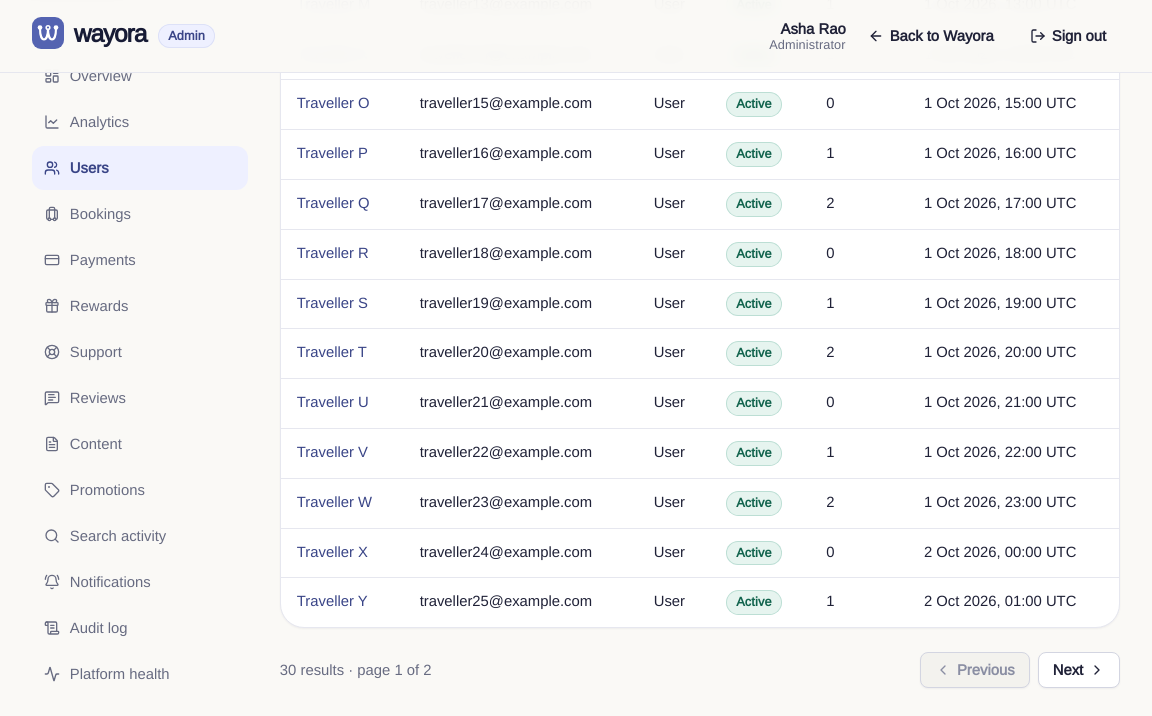
Test: admin pages › users: filters live in the URL, pages load on demand, and rows open the detail view
(page scrolled)
Expected: the text "30 results · page 1 of 2" is shown, [280,659,432,681]
Click the button "Next": (1079, 670) [1038,652,1120,688]
(page scrolled)
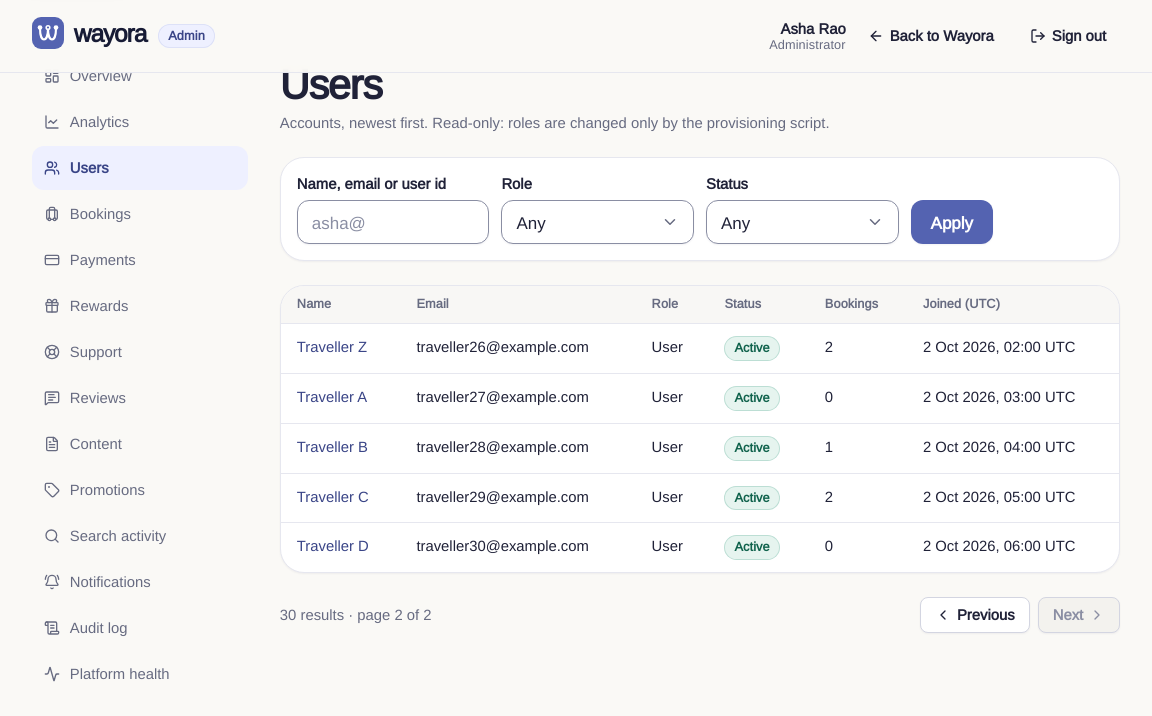
Expected: the number of rows is 6, [281,286,1119,324]; [281,324,1119,374]; [281,374,1119,423]; [281,423,1119,473]; [281,473,1119,523]; [281,523,1119,572]
In the search field labelled "Name, email or user id": (393, 222) [312,201,474,243], type "traveller7@"
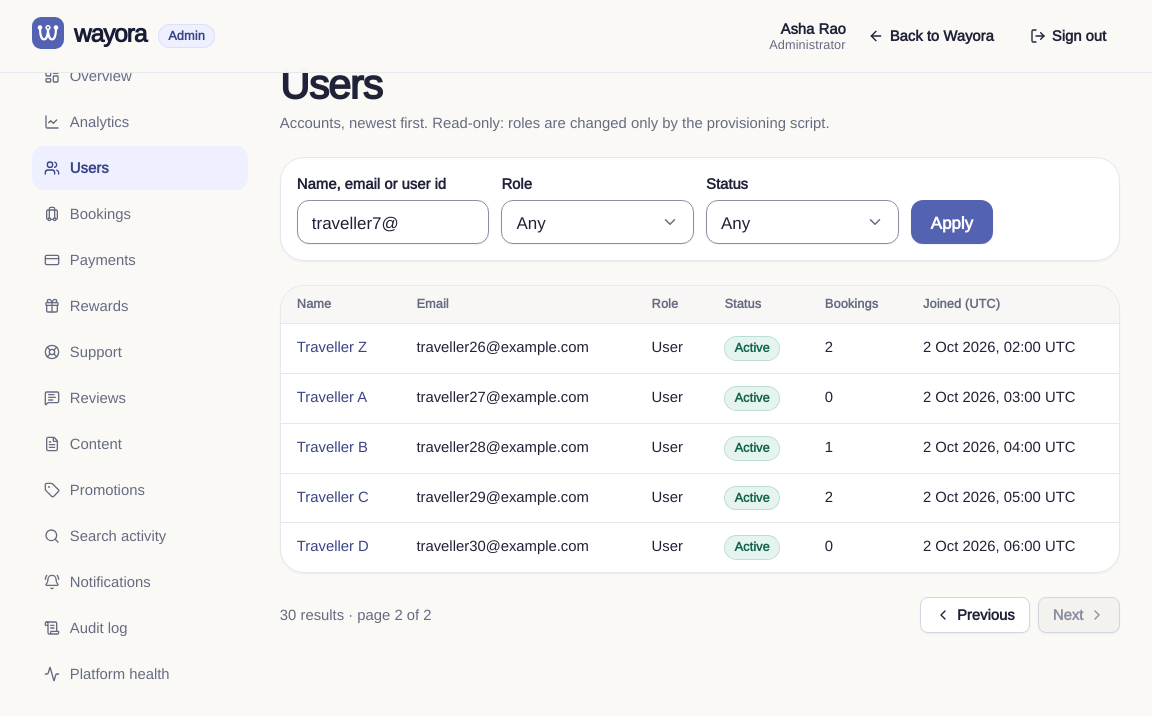
Click the button "Apply": (952, 222) [911,200,993,244]
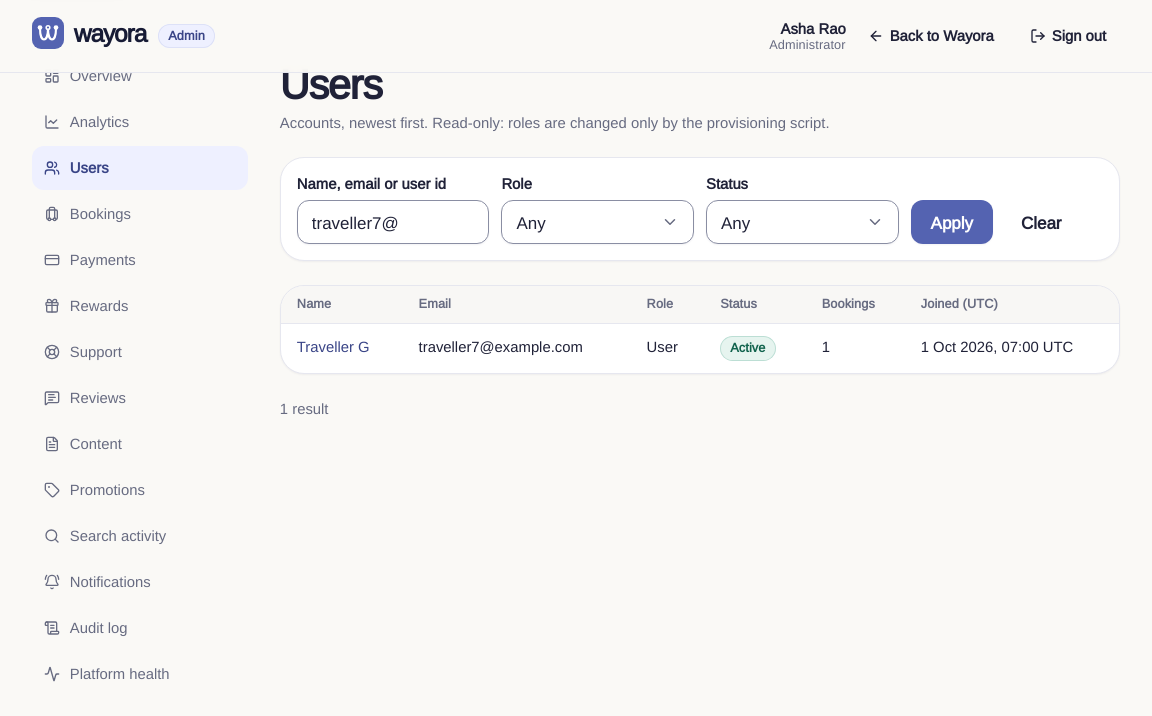
Expected: the number of rows is 2, [281,286,1119,324]; [281,324,1119,373]
Click the link "Traveller G": (333, 346) [297,337,370,355]
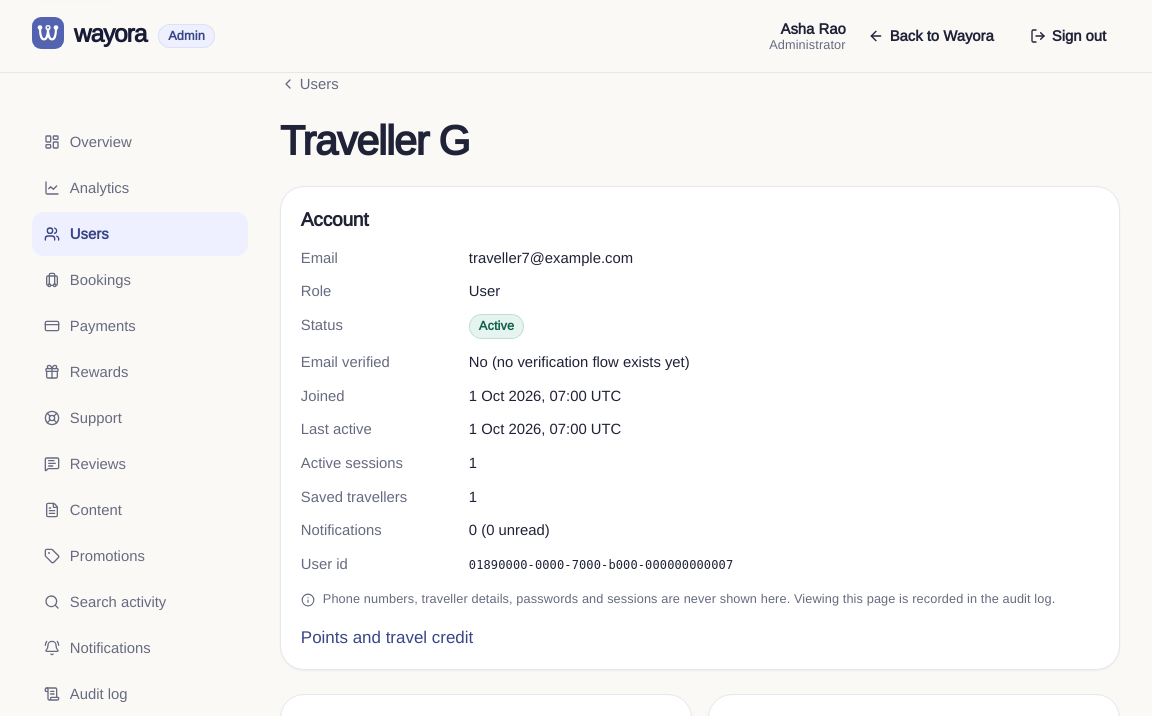
Expected: the heading "Traveller G" is shown, [280,118,469,162]
Expected: the text "Viewing this page is recorded in the audit log" is shown, [323,591,1055,606]
